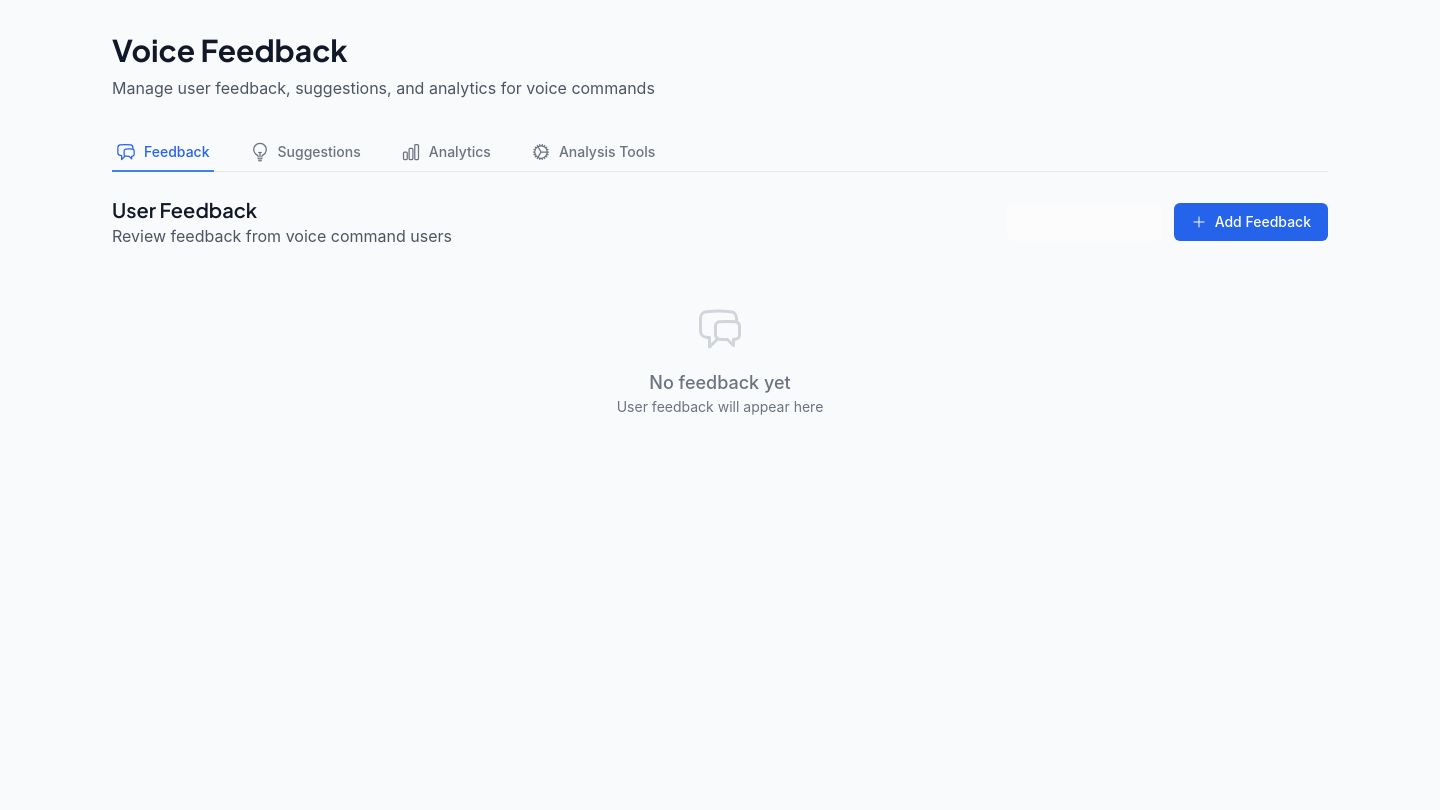
Scenario: VoiceFeedback Page › shows feedback modal when add feedback button is clicked
The width and height of the screenshot is (1440, 810).
Click the button "Add Feedback": coordinates (1251, 222) [1174,203,1328,241]
(page scrolled)
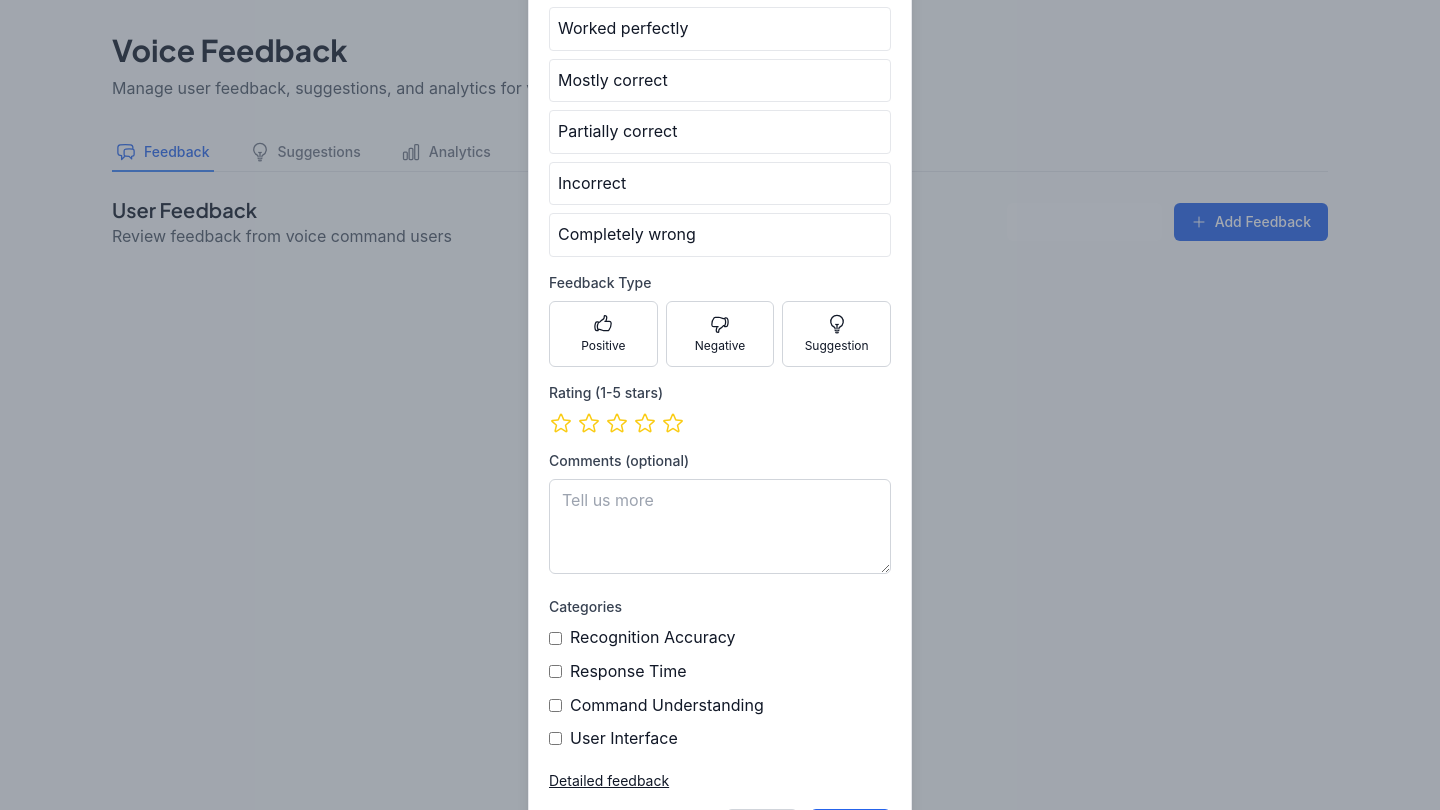
Now the dialog with test id "voice-feedback-modal" is shown, box [528,0,912,809]
